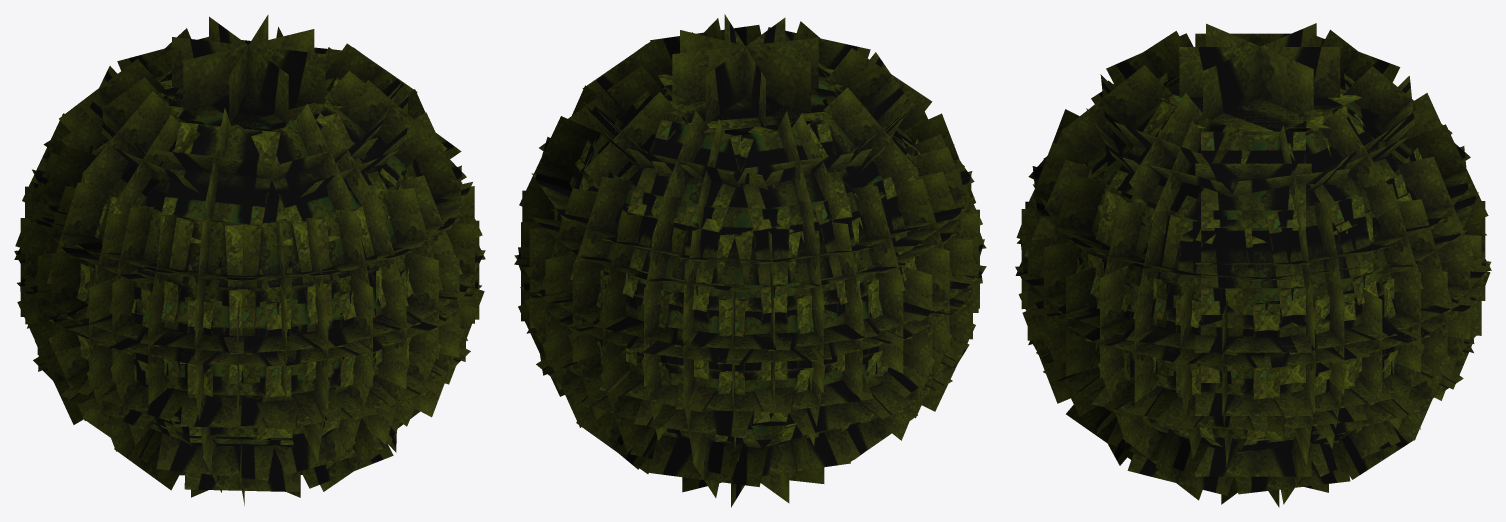
The model's file is Bush_Final.fbx.
3 renders of one model, left to right at view 1: azimuth 30°, elevation 25°; view 2: azimuth 150°, elevation 25°; view 3: azimuth 270°, elevation 25°, orthographic.
Visible parts, largest first — view 1: pPlane43; view 2: pPlane43; view 3: pPlane43.
Boxes of the visible parts, box(x1,y1,x2,y2) form: pPlane43: box(14, 14, 485, 505); pPlane43: box(514, 14, 986, 507); pPlane43: box(1015, 23, 1491, 507).
Bounding box in the file's own units: 2.36 × 2.36 × 2.36.
